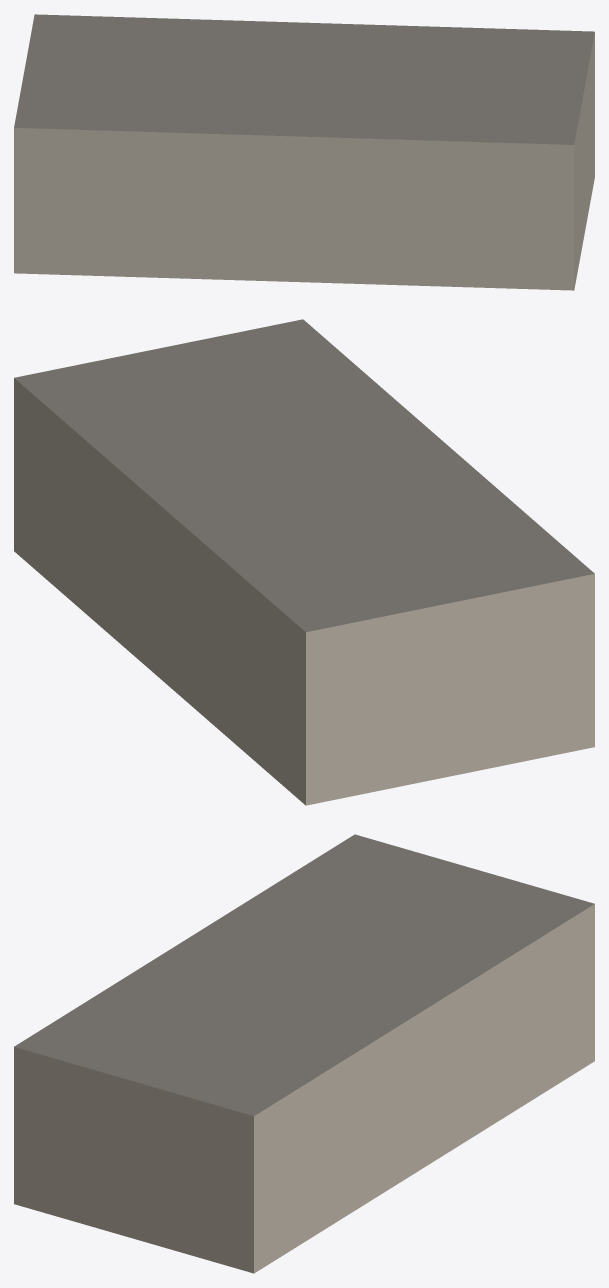
3 views of the same model, one above another, from view 1: azimuth 30°, elevation 25°; view 2: azimuth 150°, elevation 25°; view 3: azimuth 270°, elevation 25° (orthographic). The views are drawn at different scales.
Visible parts, largest first — view 1: HP-w369549457; view 2: HP-w369549457; view 3: HP-w369549457.
Boxes of the visible parts, x1,y1,x2,y2 form: HP-w369549457: [14, 14, 594, 290]; HP-w369549457: [14, 319, 594, 805]; HP-w369549457: [14, 834, 594, 1273].
Bounding box in the file's own units: 69.15 × 18 × 60.23.
